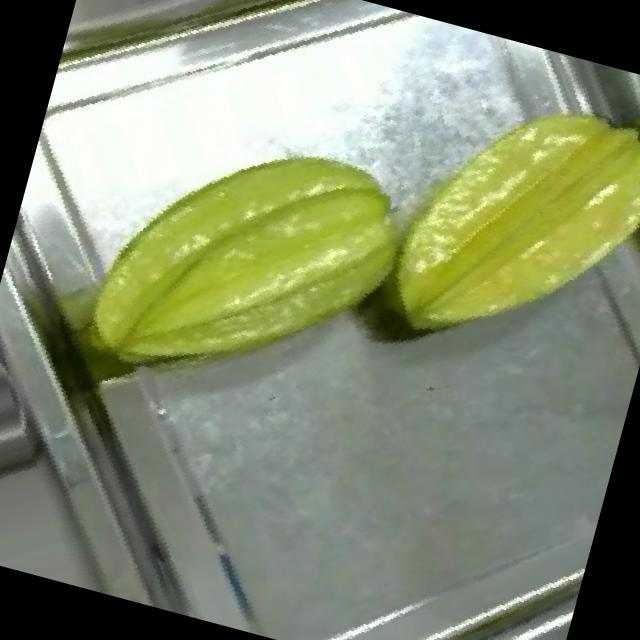fruit: (42, 45, 470, 472), (329, 21, 640, 431)
